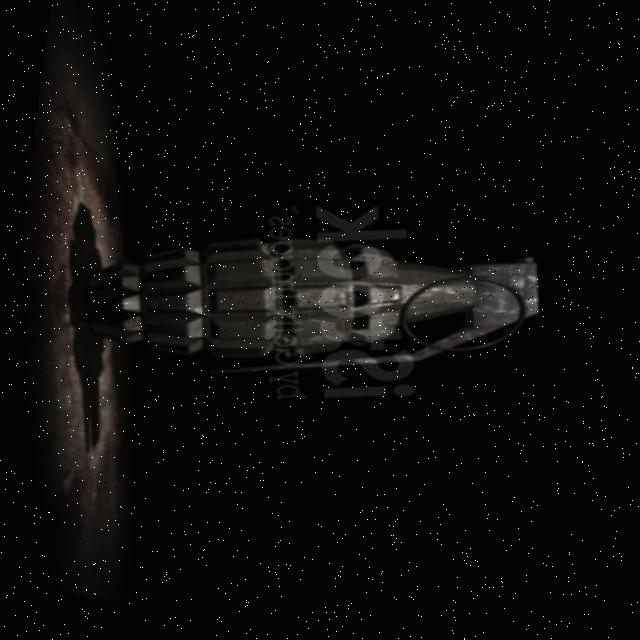grenade: (34, 139, 586, 465)
